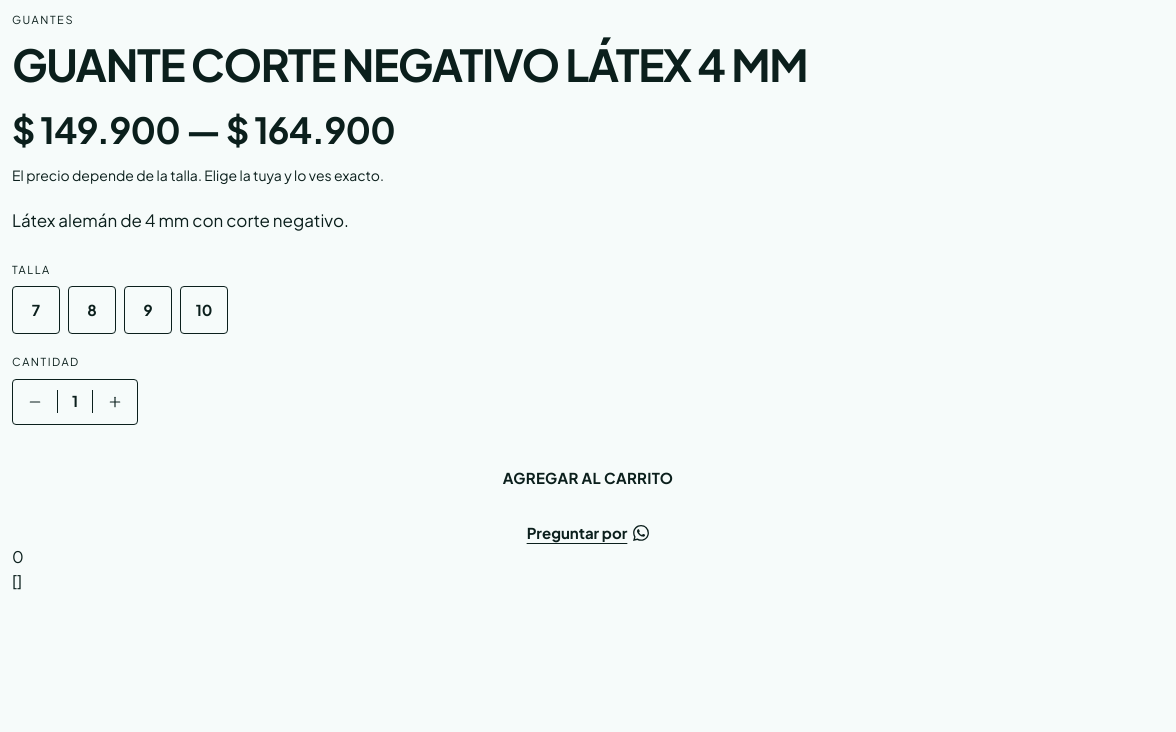
Test: ProductPurchase › con la talla elegida agrega esa variante y la cantidad del stepper
The width and height of the screenshot is (1176, 732).
Click the button "9" at (148, 310), box [124,286,172,334]
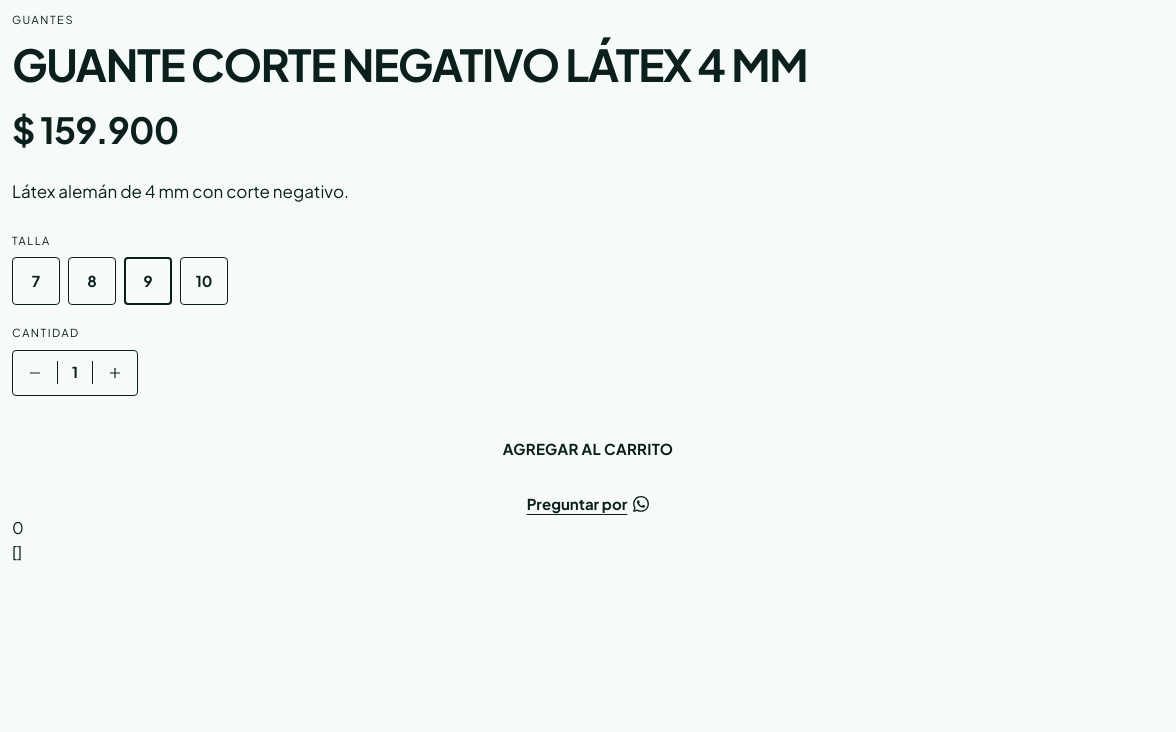
Click the button named "agregar uno" at (115, 373), box [93,351,137,395]
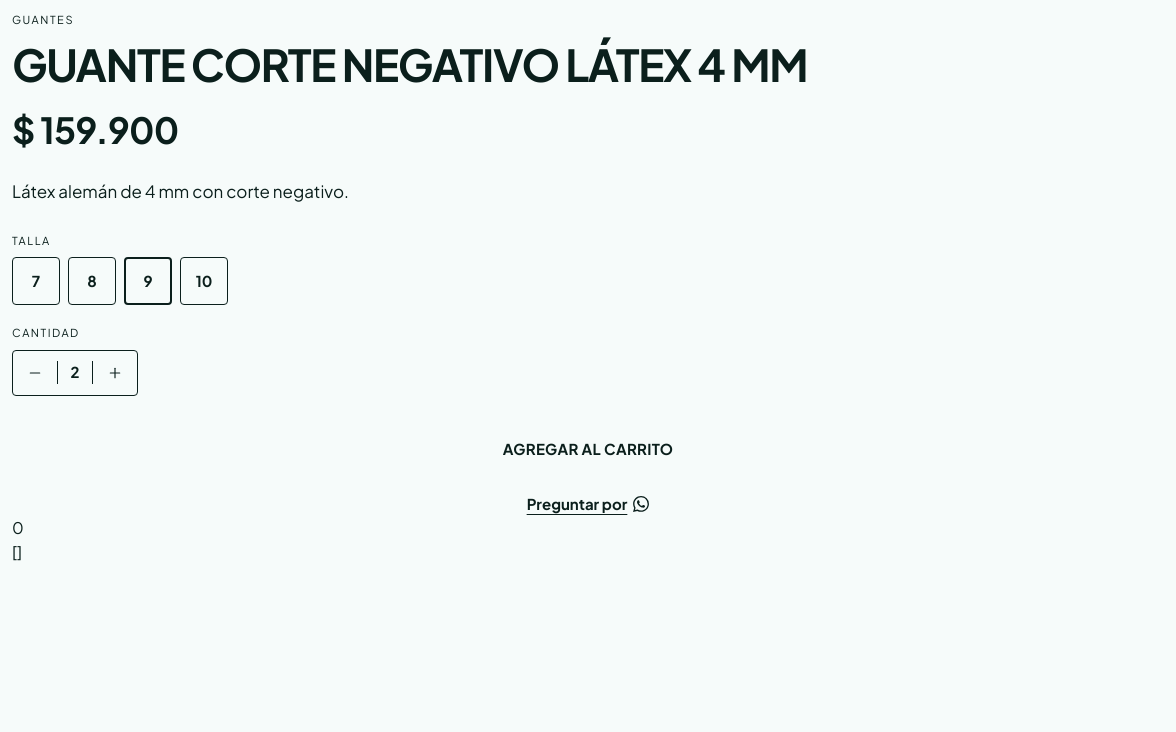
Click the button named "agregar uno" at (115, 373), box [93,351,137,395]
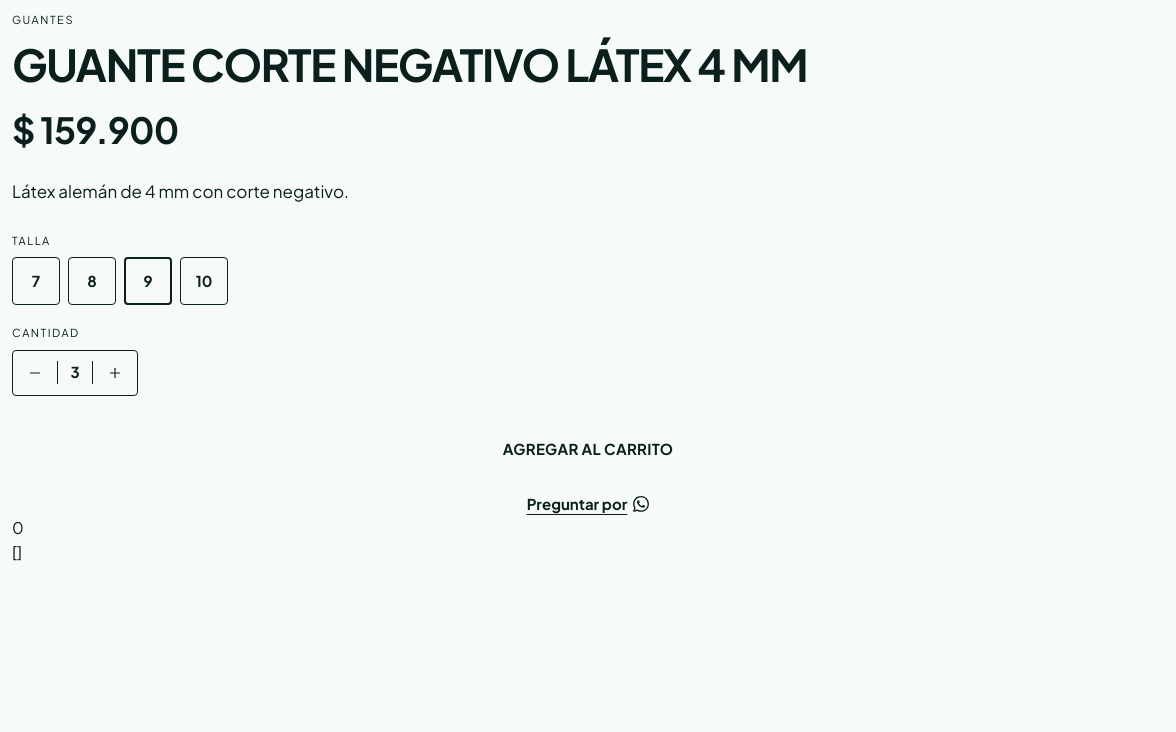
Click the button "Agregar al carrito" at (588, 450), box [12,424,1164,476]
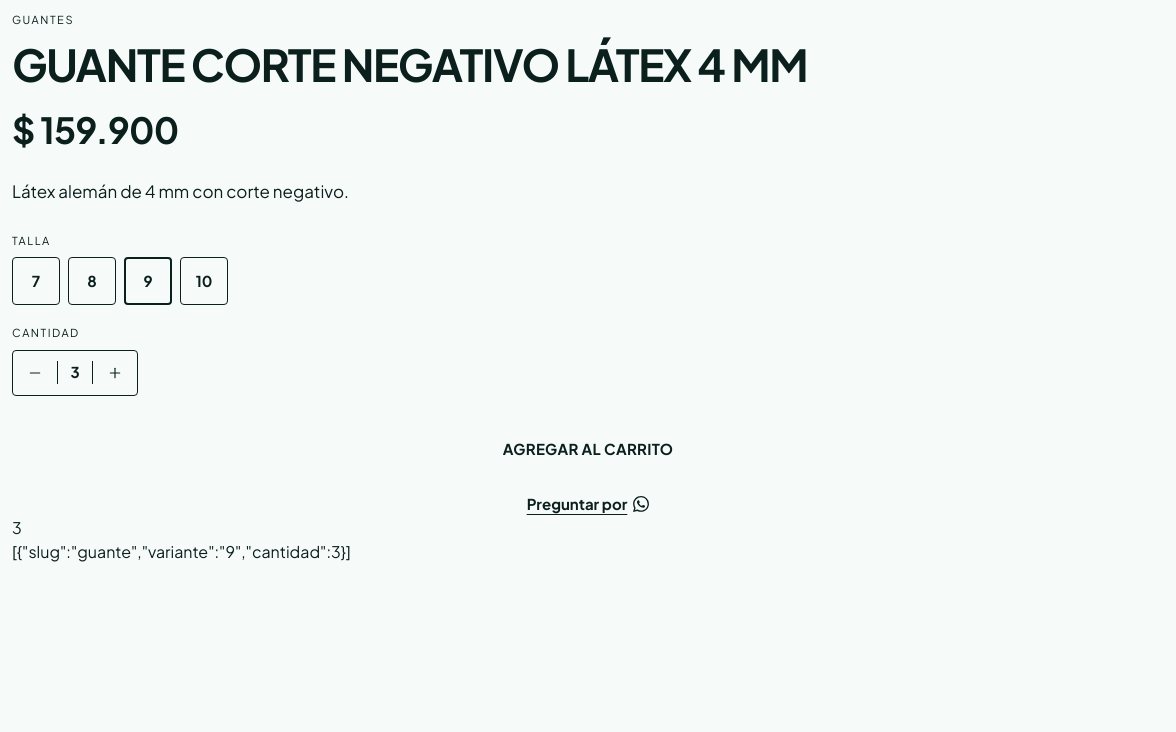
Check: the text with test id "unidades" reads "3", box [12,517,22,538]
